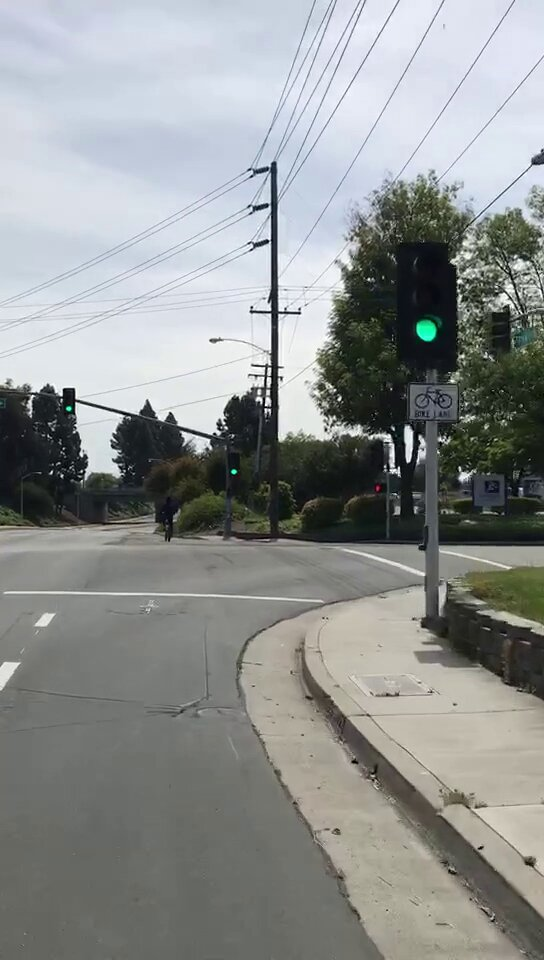green_light: (399, 246, 454, 364), (227, 452, 241, 478), (63, 390, 76, 413)
